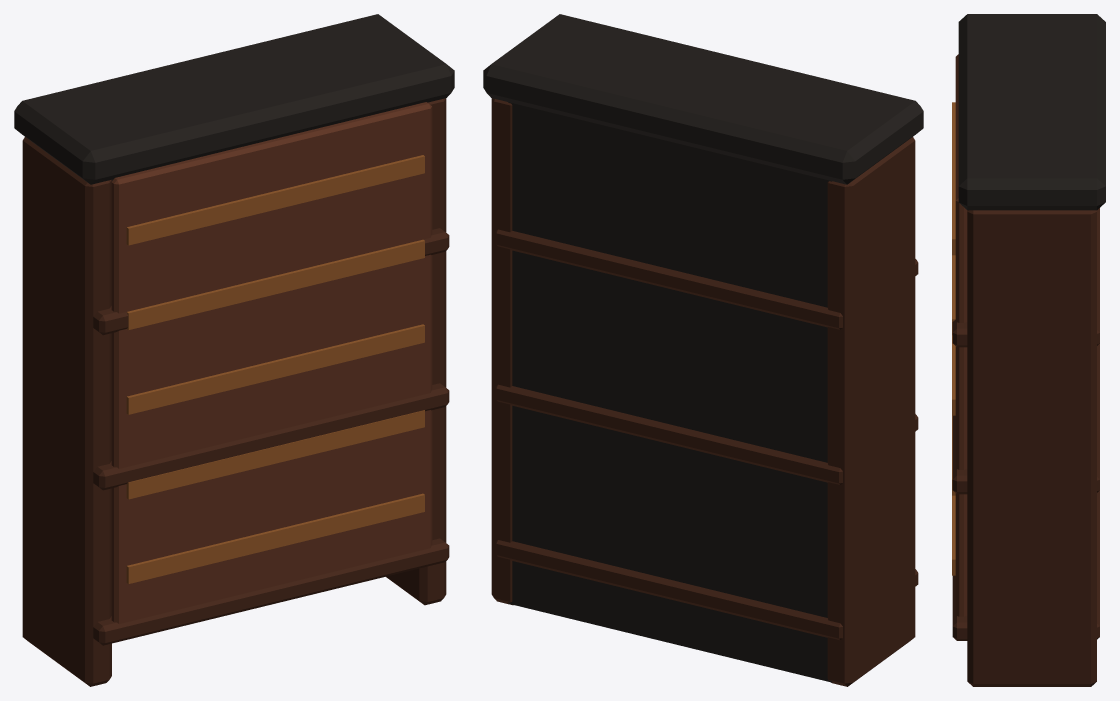
Rendered from archive.glb.
3 renders of one model, left to right at view 1: azimuth 30°, elevation 25°; view 2: azimuth 150°, elevation 25°; view 3: azimuth 270°, elevation 25°, orthographic. The views are drawn at different scales.
Visible parts, largest first — view 1: Shutter_mesh, Body_mesh; view 2: Body_mesh; view 3: Body_mesh, Shutter_mesh.
Boxes of the visible parts, bbox=[...] form: Shutter_mesh: bbox=[111, 102, 432, 623]; Body_mesh: bbox=[14, 14, 454, 686]; Body_mesh: bbox=[483, 14, 923, 686]; Body_mesh: bbox=[952, 14, 1105, 686]; Shutter_mesh: bbox=[952, 54, 967, 616].
Bounding box in the file's own units: 1.38 × 1.91 × 0.522.
